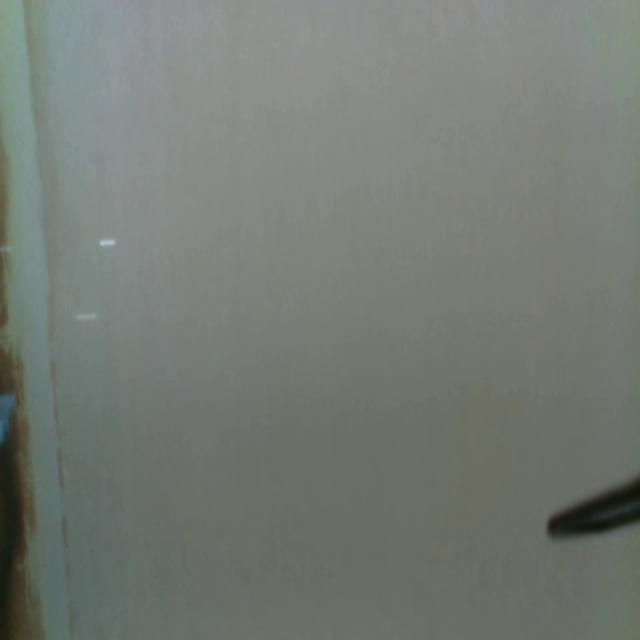color bleeding: (0, 0, 74, 635)
